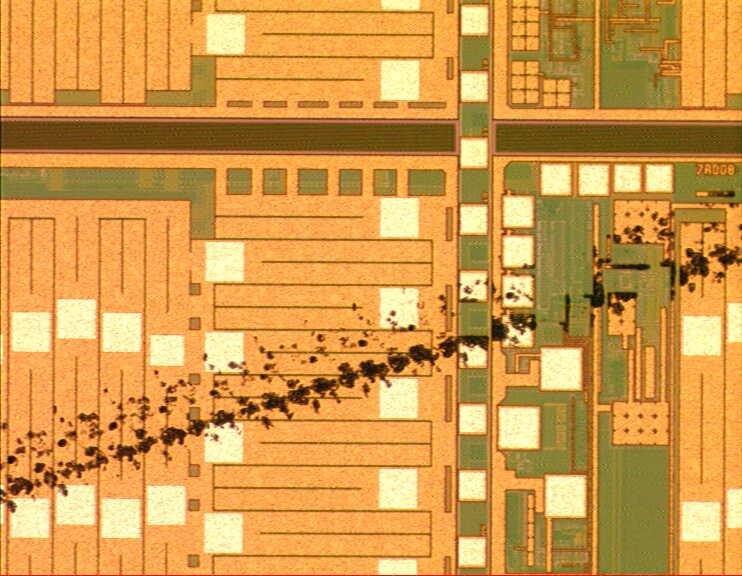SCRATCH: (1, 174, 742, 525)
